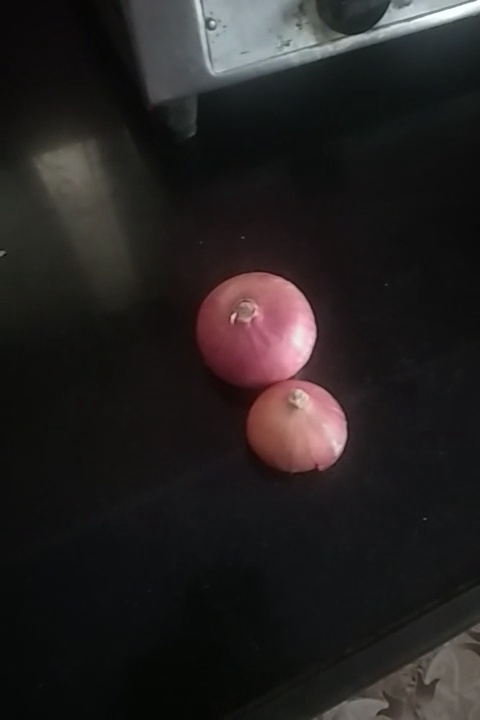onion: (194, 270, 319, 388), (248, 381, 348, 477)
